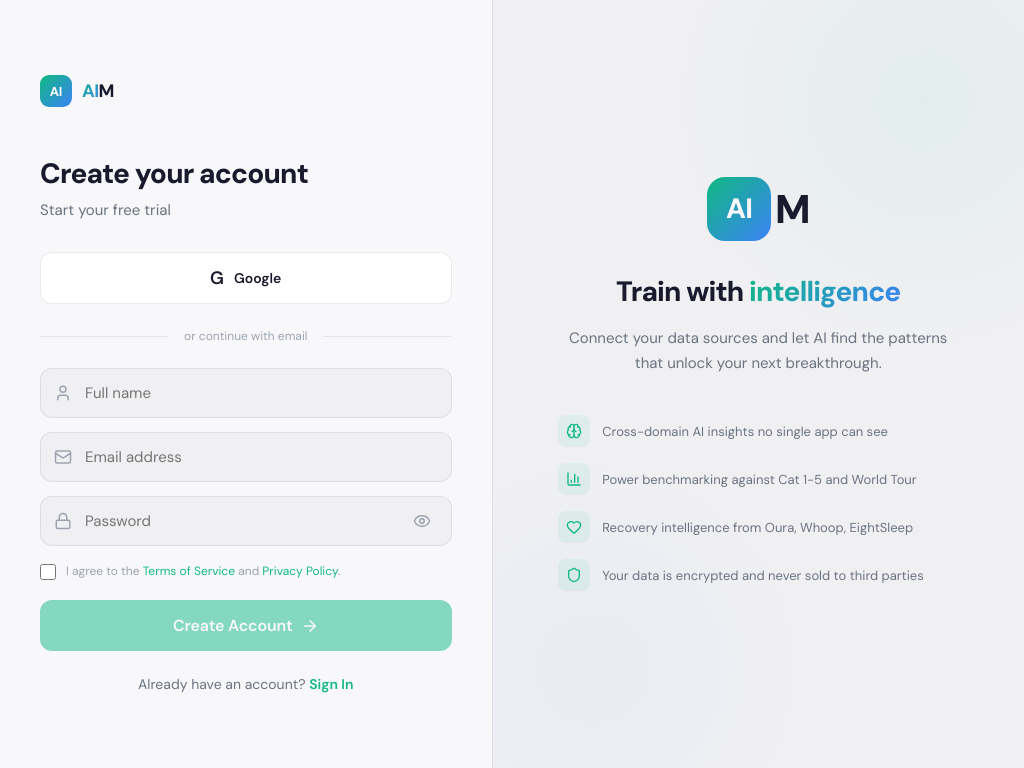
Test: Auth page — signup mode › Create Account button is enabled when terms are accepted
The width and height of the screenshot is (1024, 768).
Click the checkbox: x=48, y=572 [40,564,56,580]
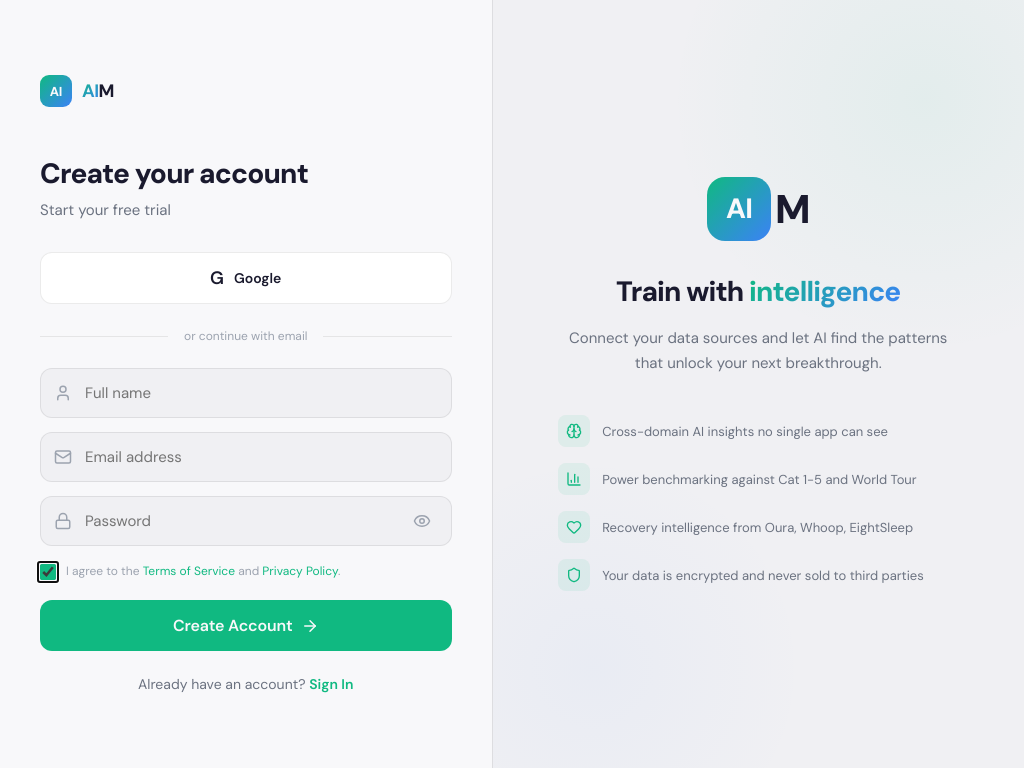
Expected: the button "Create Account" is enabled, [40,600,452,651]
